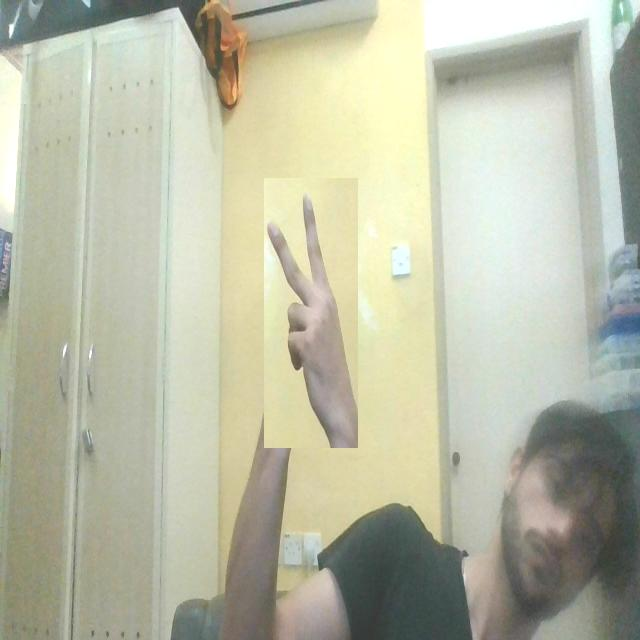peace: (264, 178, 358, 448)
